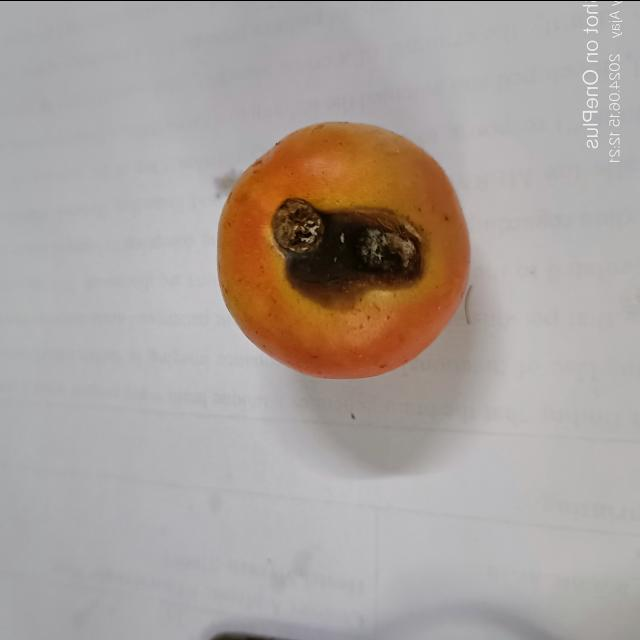Anthrocnose: (272, 200, 419, 310)
